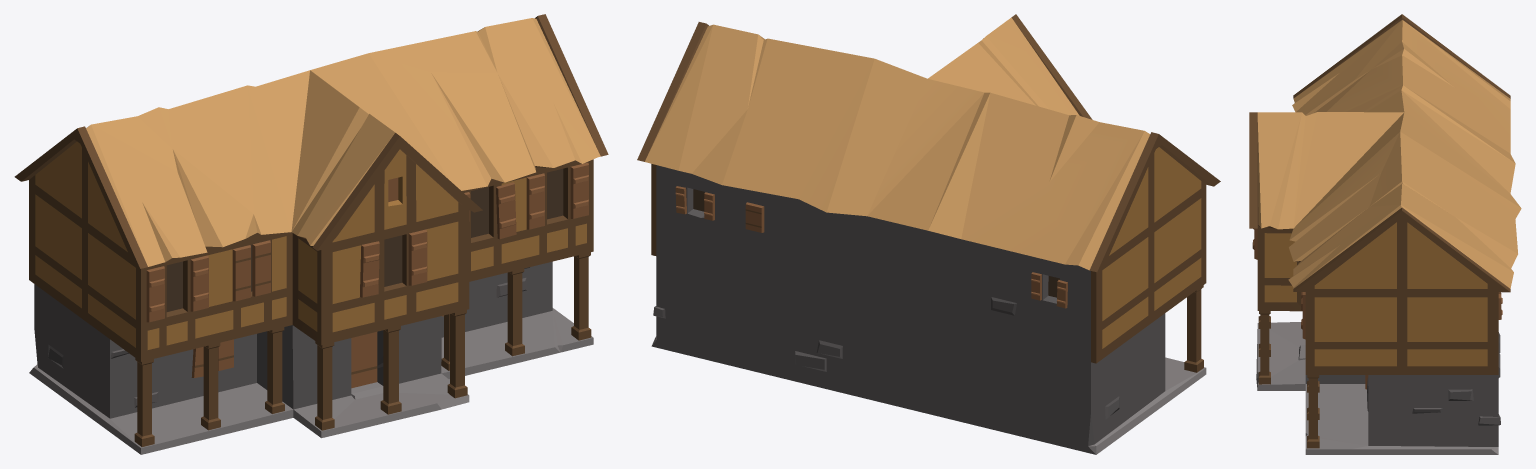
File: pirates_house-pirate-big.fbx
3 views of the same model, side by side, from view 1: azimuth 30°, elevation 25°; view 2: azimuth 150°, elevation 25°; view 3: azimuth 270°, elevation 25° (orthographic). The views are drawn at different scales.
Parts seen in each view (by area): view 1: pirates_house_pirate_big; view 2: pirates_house_pirate_big; view 3: pirates_house_pirate_big.
Boxes of the visible parts, left/top/right/bottom form: pirates_house_pirate_big: left=14, top=14, right=608, bottom=454; pirates_house_pirate_big: left=637, top=14, right=1220, bottom=454; pirates_house_pirate_big: left=1249, top=14, right=1521, bottom=454.
Size of the model in its own units: 200 by 119 by 117.
